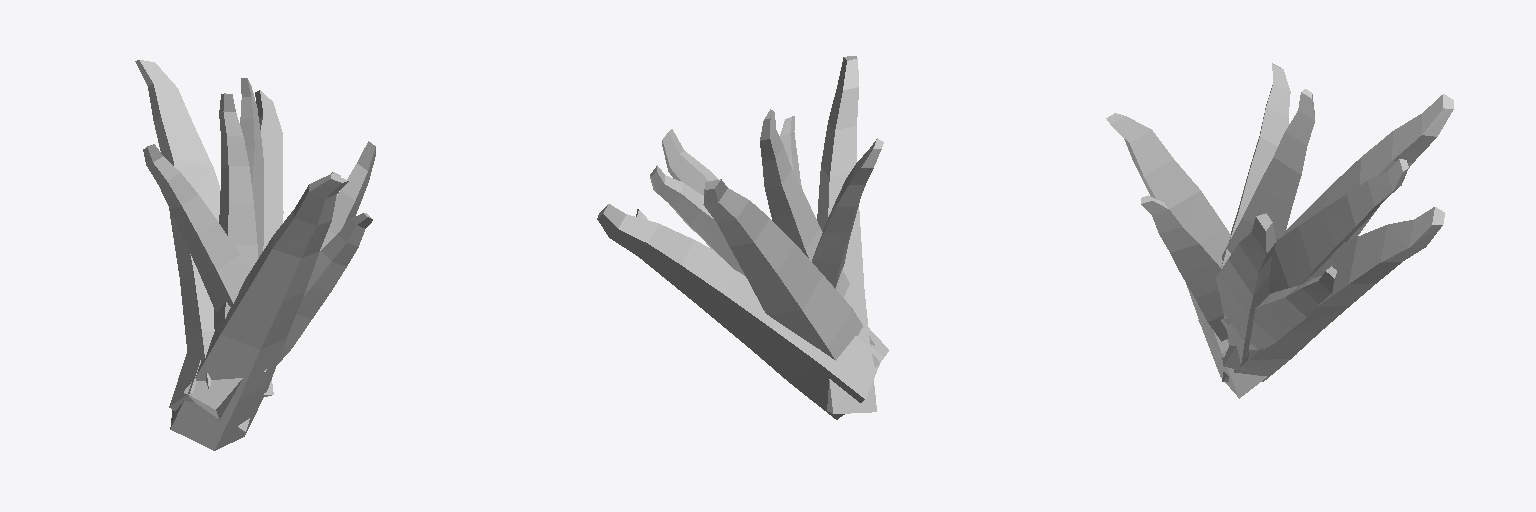
File: coral 3.obj
3 views of the same model, side by side, from view 1: azimuth 30°, elevation 25°; view 2: azimuth 150°, elevation 25°; view 3: azimuth 270°, elevation 25° (orthographic).
Visible parts, largest first — view 1: mesh[number redacted], mesh[number redacted], mesh[number redacted], mesh[number redacted], mesh[number redacted], mesh[number redacted], mesh[number redacted], mesh[number redacted]; view 2: mesh[number redacted], mesh[number redacted], mesh[number redacted], mesh[number redacted], mesh[number redacted], mesh[number redacted], mesh[number redacted], mesh[number redacted]; view 3: mesh[number redacted], mesh[number redacted], mesh[number redacted], mesh[number redacted], mesh[number redacted], mesh[number redacted], mesh[number redacted], mesh[number redacted], mesh[number redacted].
Part boxes in pixels (bbox=[...]): mesh[number redacted]: bbox=[170, 174, 348, 450]; mesh[number redacted]: bbox=[135, 60, 273, 396]; mesh[number redacted]: bbox=[143, 144, 249, 312]; mesh[number redacted]: bbox=[214, 93, 257, 329]; mesh[number redacted]: bbox=[169, 90, 283, 431]; mesh[number redacted]: bbox=[277, 213, 372, 364]; mesh[number redacted]: bbox=[184, 141, 375, 419]; mesh[number redacted]: bbox=[240, 78, 263, 258]; mesh[number redacted]: bbox=[597, 204, 882, 419]; mesh[number redacted]: bbox=[703, 179, 874, 360]; mesh[number redacted]: bbox=[817, 56, 876, 413]; mesh[number redacted]: bbox=[760, 109, 849, 297]; mesh[number redacted]: bbox=[812, 138, 883, 288]; mesh[number redacted]: bbox=[650, 165, 744, 275]; mesh[number redacted]: bbox=[662, 129, 888, 367]; mesh[number redacted]: bbox=[780, 116, 802, 189]; mesh[number redacted]: bbox=[1222, 207, 1444, 381]; mesh[number redacted]: bbox=[1106, 113, 1296, 398]; mesh[number redacted]: bbox=[1269, 159, 1408, 293]; mesh[number redacted]: bbox=[1222, 94, 1453, 374]; mesh[number redacted]: bbox=[1198, 213, 1276, 363]; mesh[number redacted]: bbox=[1222, 89, 1314, 259]; mesh[number redacted]: bbox=[1141, 195, 1227, 341]; mesh[number redacted]: bbox=[1205, 266, 1336, 349]; mesh[number redacted]: bbox=[1221, 63, 1290, 267].
Size of the model in its own units: 0.4295 by 0.5727 by 0.5713.